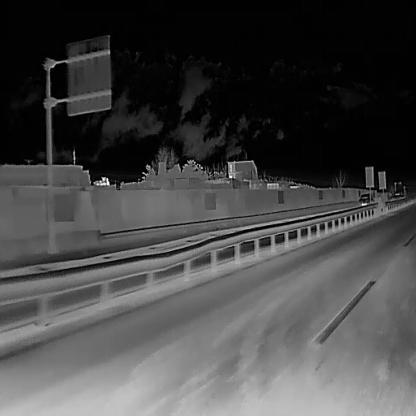car: (358, 192, 373, 205), (396, 192, 404, 200), (389, 194, 396, 201)
